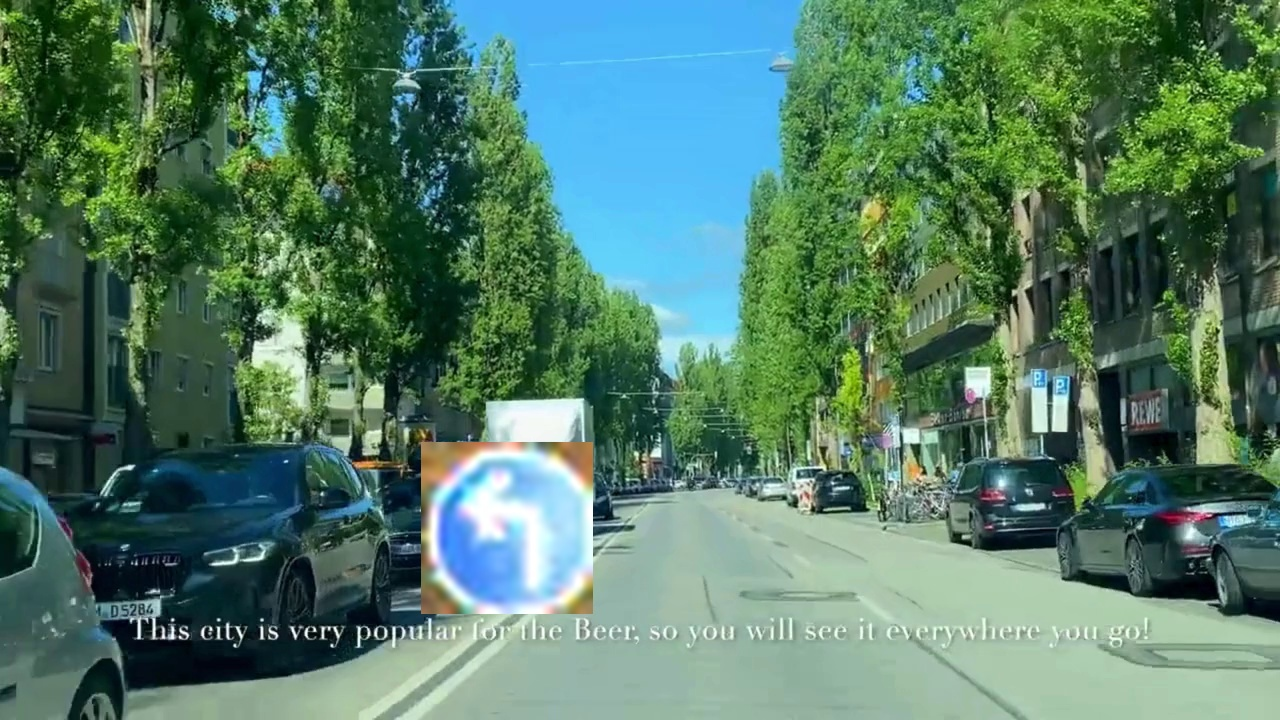Turn left: (421, 442, 593, 614)
